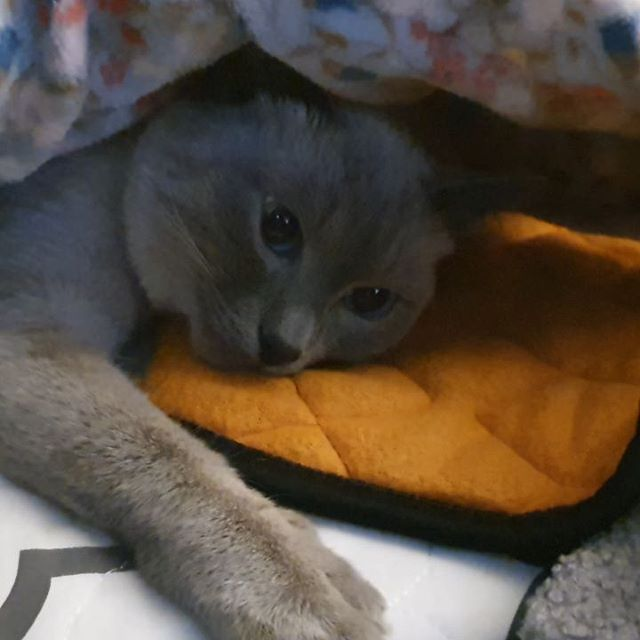cat: (146, 113, 464, 431)
